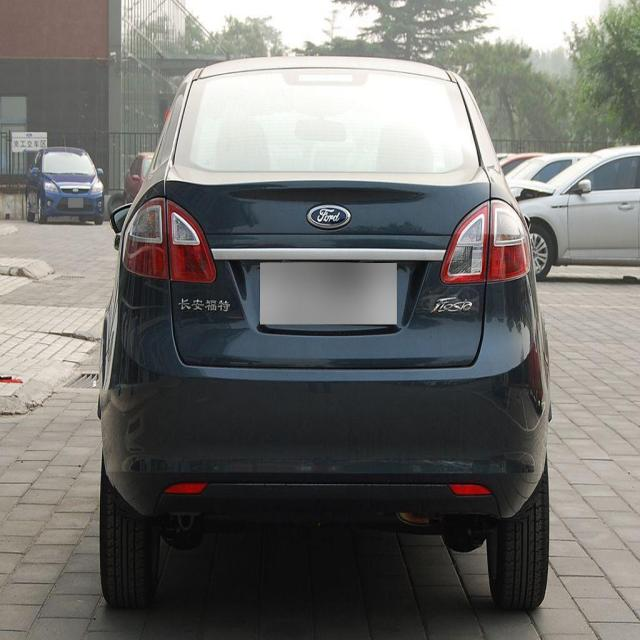back_glass: (171, 66, 481, 176)
back_left_side_light: (117, 194, 222, 291)
back_right_side_light: (441, 201, 533, 287)
front_left_side_mirror: (108, 203, 140, 242)
rear_bumper: (100, 266, 552, 520)
wheel: (485, 466, 552, 609), (100, 475, 159, 613)
